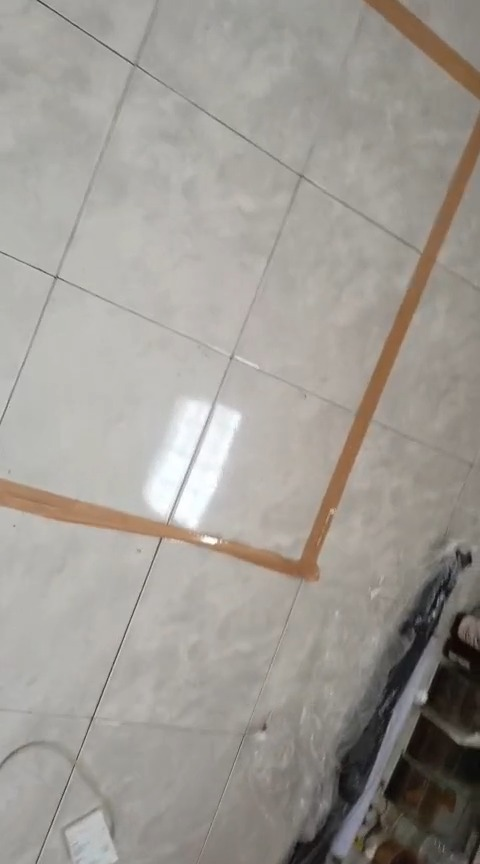floor marking: (0, 114, 479, 579), (364, 0, 479, 101)
